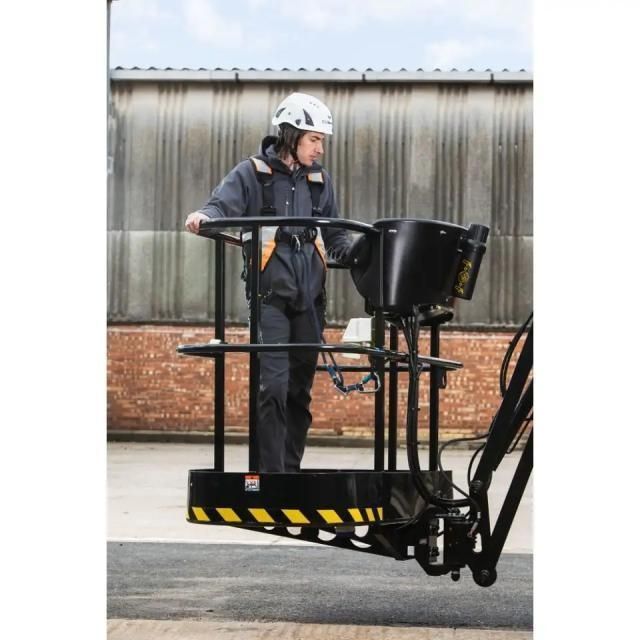Arnes_seguridad: (243, 158, 329, 323)
